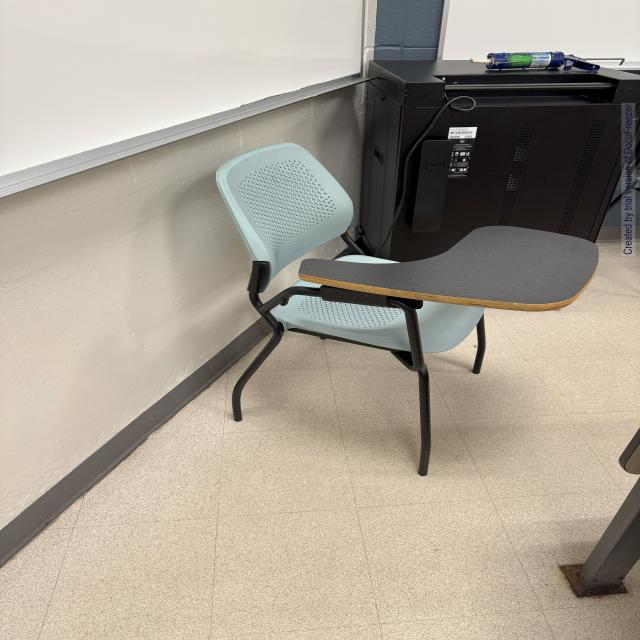chair: (211, 135, 609, 484)
